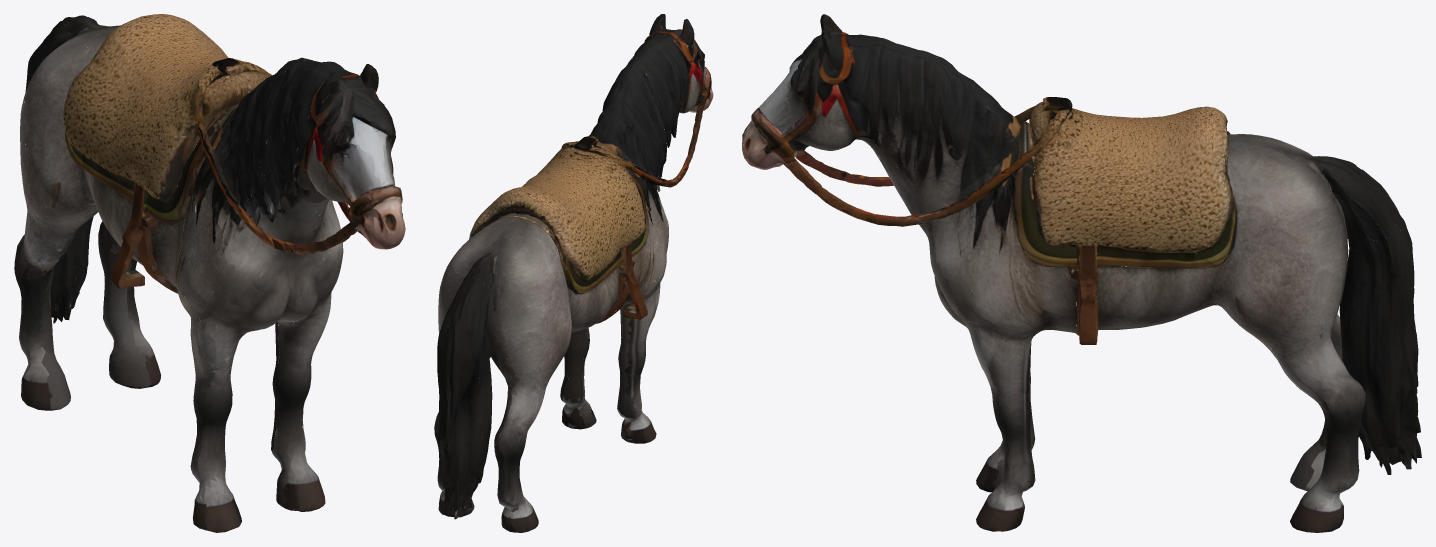
The model's file is ceniza.glb.
3 renders of one model, left to right at view 1: azimuth 30°, elevation 25°; view 2: azimuth 150°, elevation 25°; view 3: azimuth 270°, elevation 25°, orthographic. The views are drawn at different scales.
Parts seen in each view (by area): view 1: ceniza; view 2: ceniza; view 3: ceniza.
Boxes of the visible parts, bbox=[...] form: ceniza: bbox=[14, 14, 405, 532]; ceniza: bbox=[434, 14, 713, 532]; ceniza: bbox=[742, 14, 1421, 532].
Bounding box in the file's own units: 0.7619 × 1.9 × 2.42.
Materials: 1 (1 with a texture image).
